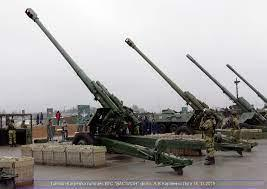person: (6, 116, 18, 144), (45, 117, 54, 143), (60, 120, 69, 141), (54, 110, 62, 124)
sau: (20, 8, 205, 174), (118, 32, 261, 156), (184, 48, 267, 141), (222, 56, 267, 111)
